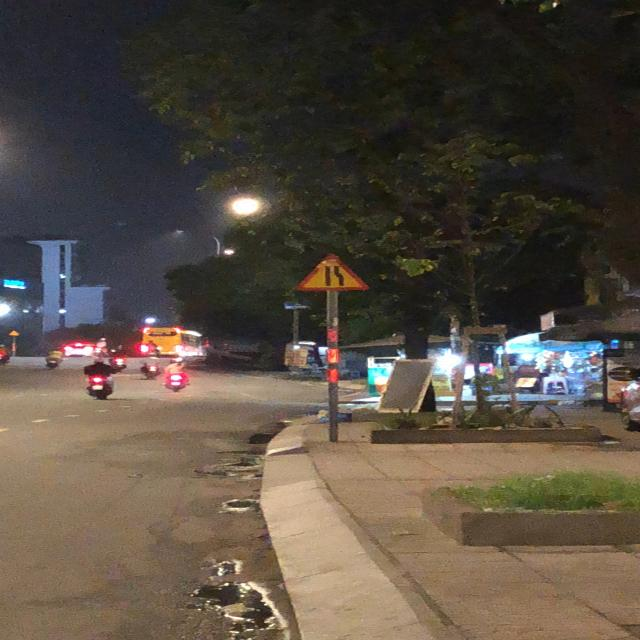Bien bao duong bi thu hep: (280, 248, 383, 293)
